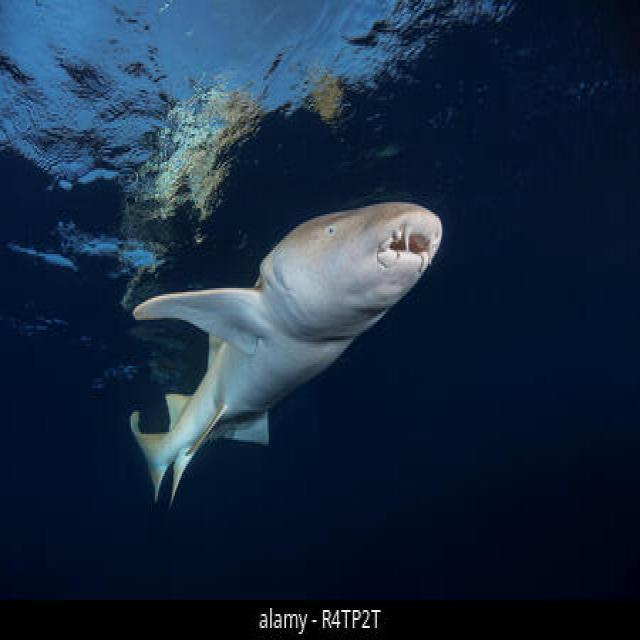Shark: (97, 174, 456, 498)
